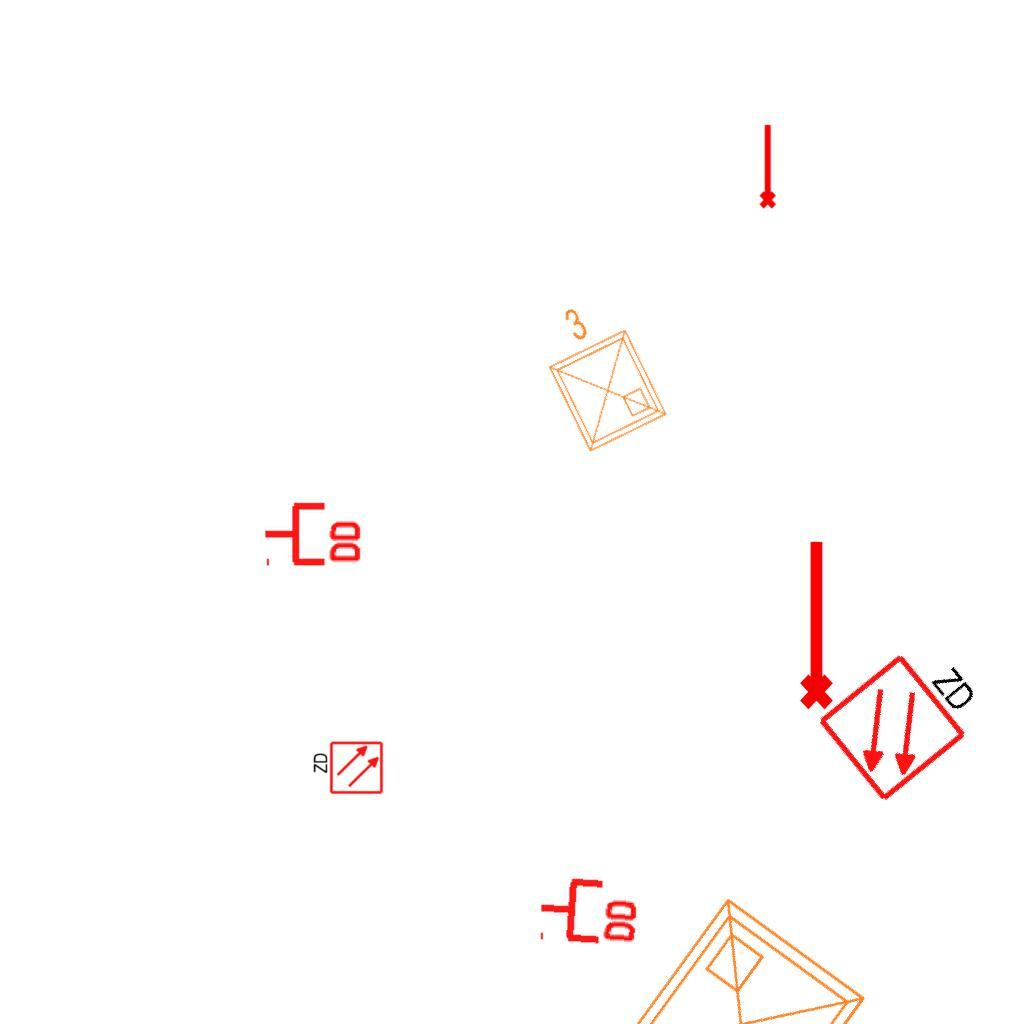ASR_Ansaugoeffnung: (791, 536, 837, 712), (755, 122, 778, 210)
Datenanschluss_zweifach: (535, 871, 644, 948), (262, 498, 365, 567)
Einbaudownlights_LED_Konferenzraeume: (547, 877, 893, 1024), (517, 282, 677, 464)
ZD_Melder_in_Zwischendecke_mit_Revisionsoeffnung_mind_40_x_40_cm: (812, 623, 1000, 806), (310, 740, 384, 797)
